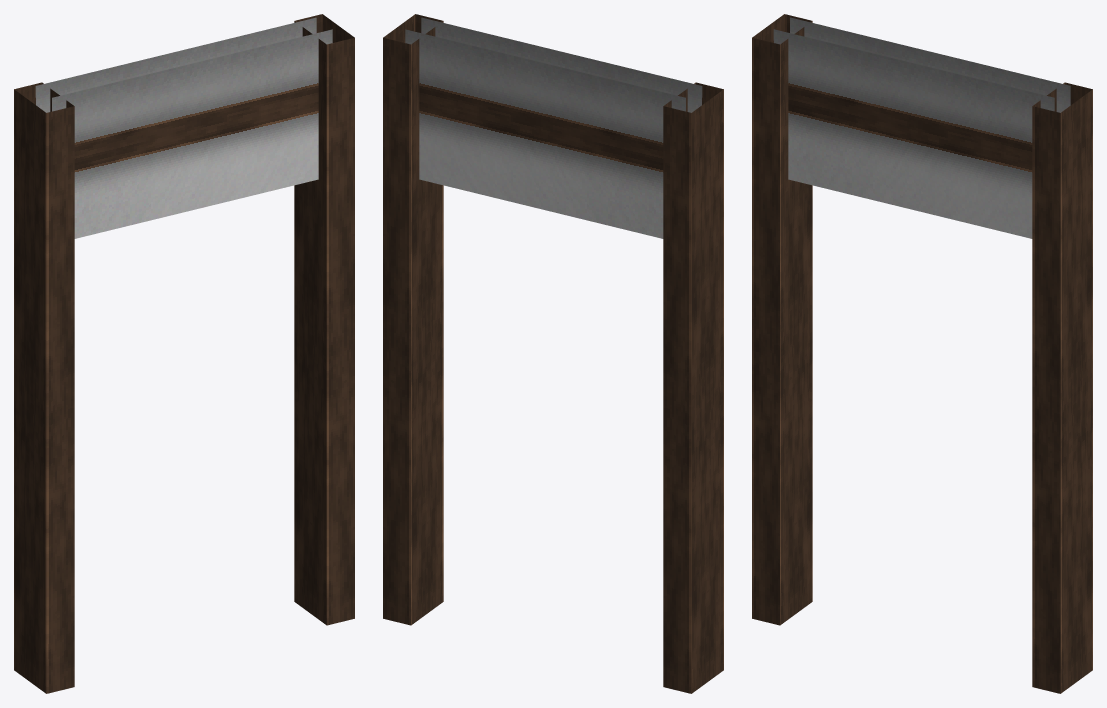
Rendered from house_enterance_2x4.glb.
3 views of the same model, side by side, from view 1: azimuth 30°, elevation 25°; view 2: azimuth 150°, elevation 25°; view 3: azimuth 330°, elevation 25° (orthographic).
Parts seen in each view (by area): view 1: house_enterance_2x4; view 2: house_enterance_2x4; view 3: house_enterance_2x4.
Boxes of the visible parts, box(x1,y1,x2,y2) form: house_enterance_2x4: box(14, 14, 354, 693); house_enterance_2x4: box(383, 14, 723, 693); house_enterance_2x4: box(752, 14, 1092, 693).
Bounding box in the file's own units: 2.2 × 4 × 0.4.
2 materials, 2 textured.
